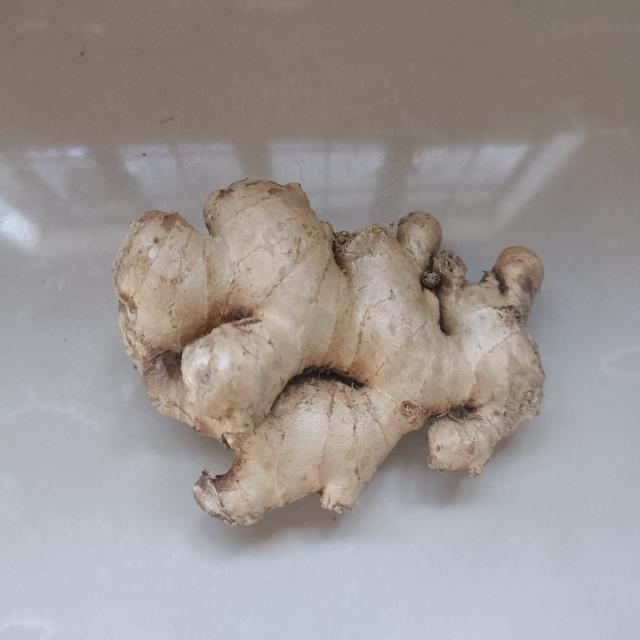ginger: (108, 170, 554, 540)
